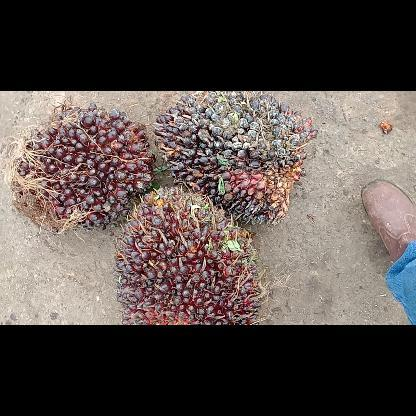Kurang masak: (115, 188, 266, 324), (18, 102, 150, 232)
TBS mentah: (154, 91, 318, 225)
